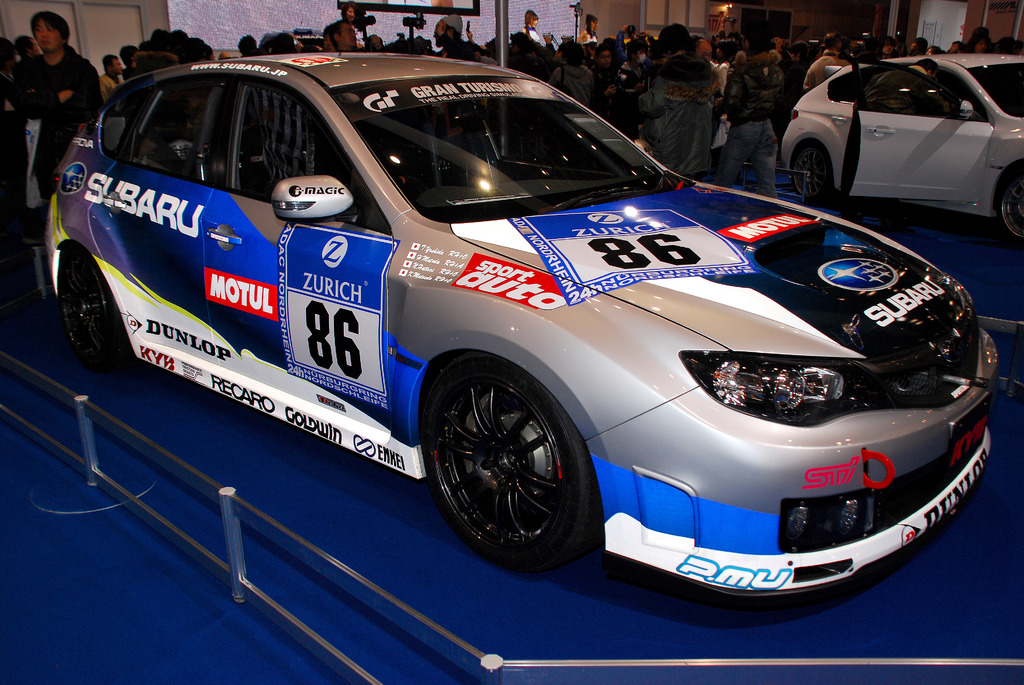person: (432, 14, 478, 60)
